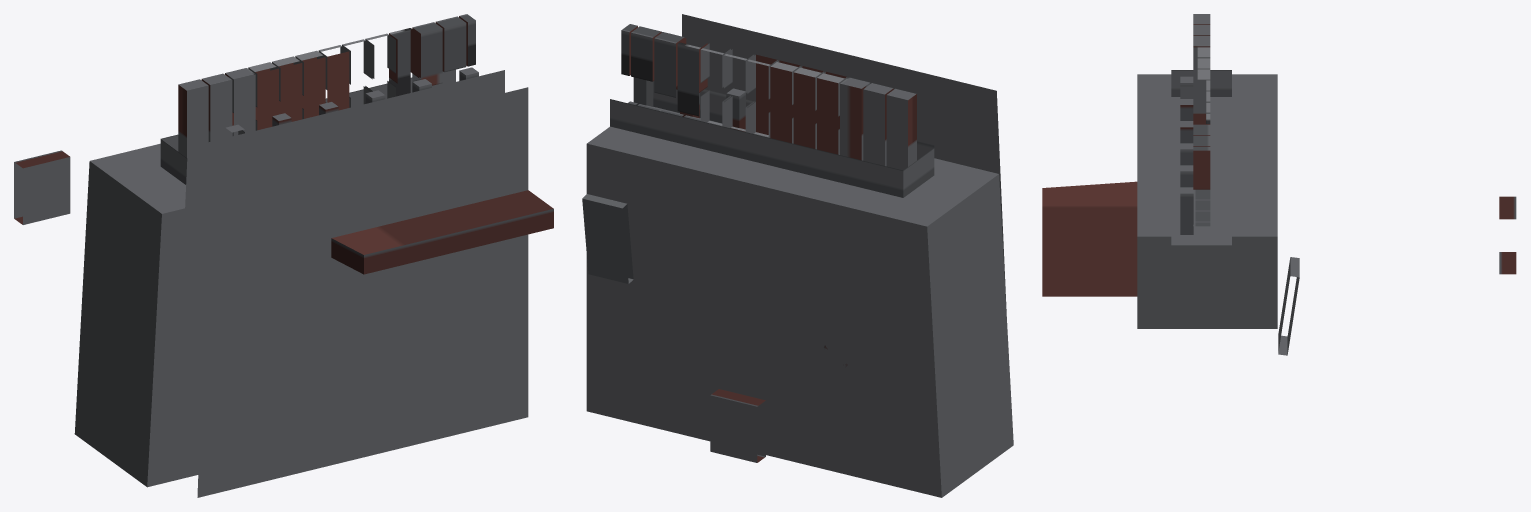
The model's file is section-0.obj.
3 renders of one model, left to right at view 1: azimuth 30°, elevation 25°; view 2: azimuth 150°, elevation 25°; view 3: azimuth 270°, elevation 25°, orthographic. The views are drawn at different scales.
Bounding box in the file's own units: 1.05 × 1.01 × 1.25.
